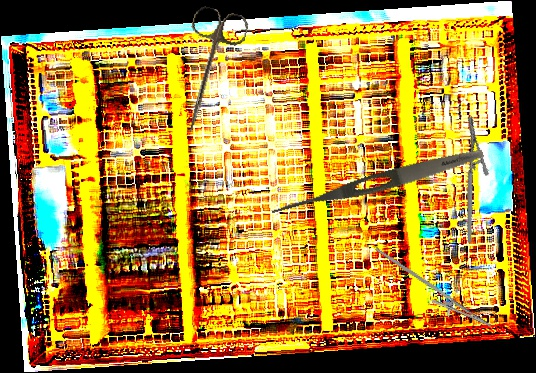Dressing Forceps: (269, 143, 486, 223)
Iris Scissors: (166, 4, 251, 139)
Needle Holder: (362, 247, 500, 337), (427, 114, 512, 244)
